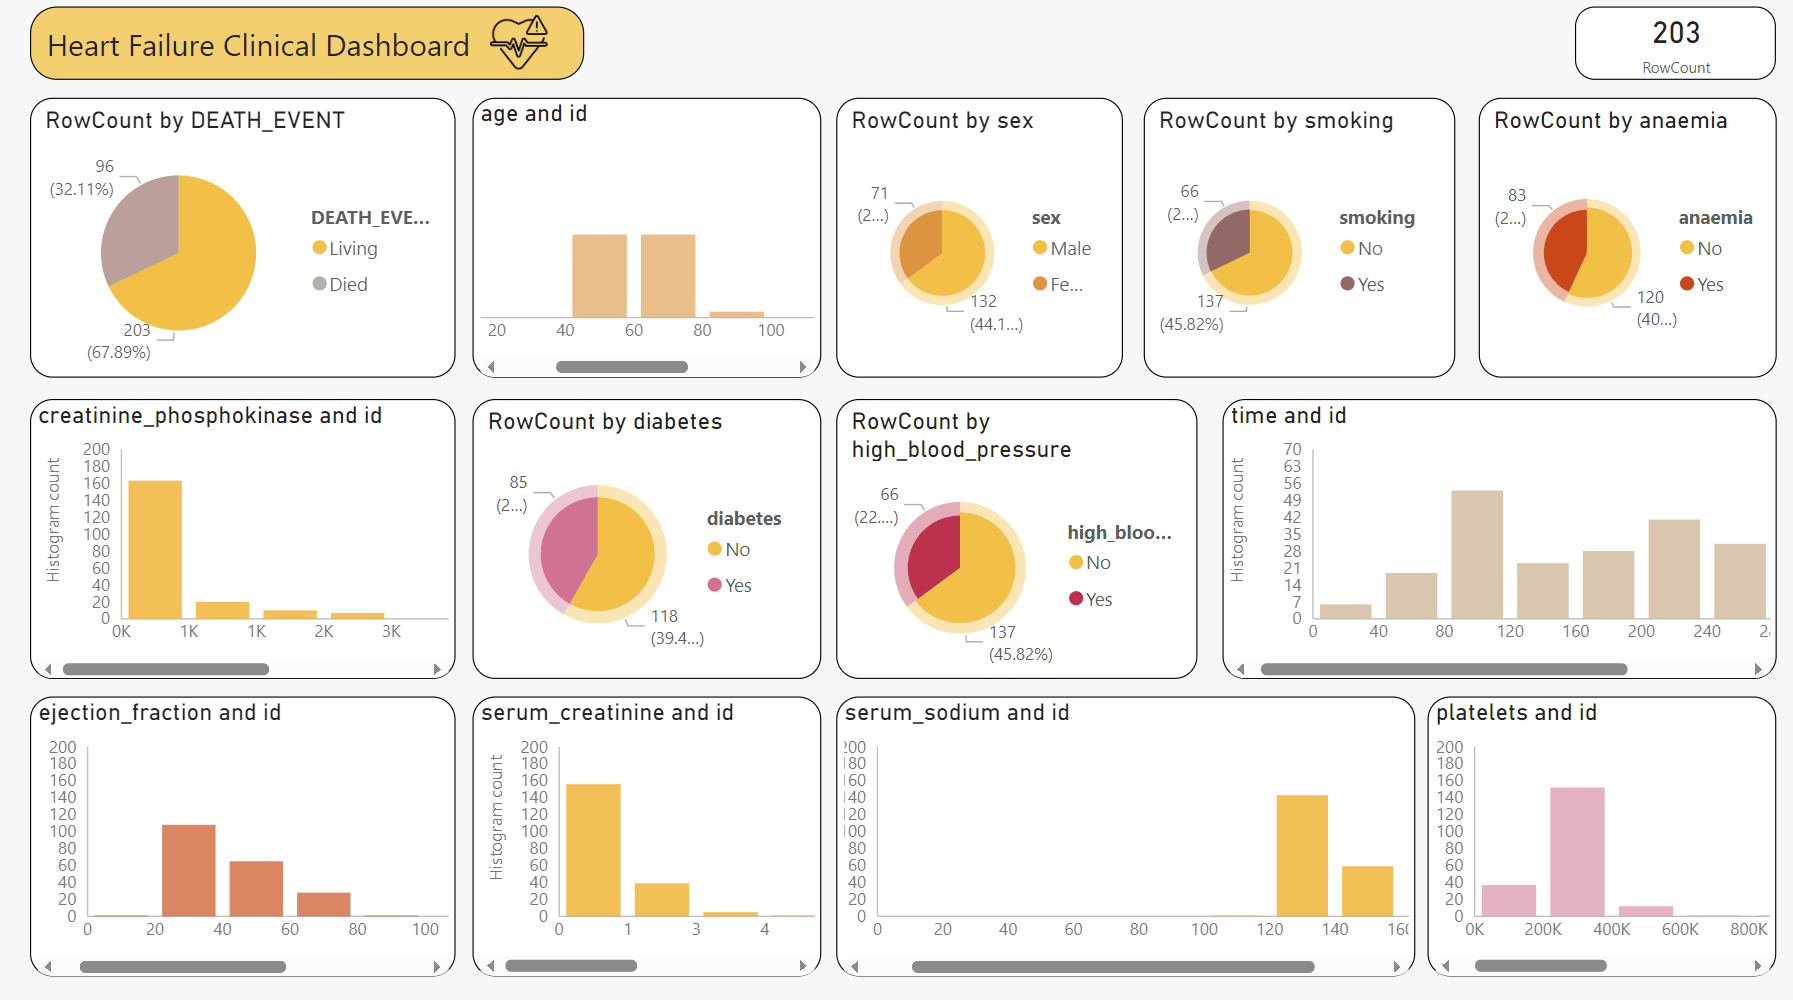

This screenshot's page, from the dashboard's own definition file:
{"tool":"powerbi","page":{"name":"Page 1","canvas":[1280,720],"ordinal":0},"visuals":[{"type":"histogramXY6E3D5691159E41859A007A262D4B0E9E","fields":{"xAxis":["heart_failure_clinical_records_powerbi.age"],"yAxis":["heart_failure_clinical_records_powerbi.id"]},"box":[338.4,73.5,247.2,198.5],"z":0},{"type":"pieChart","fields":{"Category":["heart_failure_clinical_records_powerbi.DEATH_EVENT"],"Y":["heart_failure_clinical_records_powerbi.RowCount"]},"box":[24.8,73.5,301.2,198.5],"z":1000},{"type":"pieChart","fields":{"Y":["heart_failure_clinical_records_powerbi.RowCount"],"Category":["heart_failure_clinical_records_powerbi.anaemia"]},"box":[1051.8,73.6,210.9,198.2],"z":2000},{"type":"textbox","box":[24.8,8.9,392.5,52.3],"z":3000},{"type":"image","box":[326,8.9,89.5,50.5],"z":4000},{"type":"card","fields":{"Values":["heart_failure_clinical_records_powerbi.RowCount"]},"box":[1119.8,8.9,142.6,52.3],"z":5000},{"type":"pieChart","fields":{"Y":["heart_failure_clinical_records_powerbi.RowCount"],"Category":["heart_failure_clinical_records_powerbi.diabetes"]},"box":[338.4,287,247.2,198.5],"z":6000},{"type":"pieChart","fields":{"Y":["heart_failure_clinical_records_powerbi.RowCount"],"Category":["heart_failure_clinical_records_powerbi.high_blood_pressure"]},"box":[596.2,287,256,198.5],"z":7000},{"type":"pieChart","fields":{"Y":["heart_failure_clinical_records_powerbi.RowCount"],"Category":["heart_failure_clinical_records_powerbi.sex"]},"box":[596.2,73.5,202.9,198.5],"z":8000},{"type":"pieChart","fields":{"Category":["heart_failure_clinical_records_powerbi.smoking"],"Y":["heart_failure_clinical_records_powerbi.RowCount"]},"box":[814.5,73.6,220.9,198.2],"z":9000},{"type":"histogramXY6E3D5691159E41859A007A262D4B0E9E","fields":{"xAxis":["heart_failure_clinical_records_powerbi.creatinine_phosphokinase"],"yAxis":["heart_failure_clinical_records_powerbi.id"]},"box":[24.8,287,301.2,198.5],"z":10000},{"type":"histogramXY6E3D5691159E41859A007A262D4B0E9E","fields":{"xAxis":["heart_failure_clinical_records_powerbi.time"],"yAxis":["heart_failure_clinical_records_powerbi.id"]},"box":[870,287,392.5,198.5],"z":11000},{"type":"histogramXY6E3D5691159E41859A007A262D4B0E9E","fields":{"xAxis":["heart_failure_clinical_records_powerbi.ejection_fraction"],"yAxis":["heart_failure_clinical_records_powerbi.id"]},"box":[24.8,497.9,301.2,198.5],"z":12000},{"type":"histogramXY6E3D5691159E41859A007A262D4B0E9E","fields":{"xAxis":["heart_failure_clinical_records_powerbi.platelets"],"yAxis":["heart_failure_clinical_records_powerbi.id"]},"box":[1015.3,497.9,247.2,198.5],"z":13000},{"type":"histogramXY6E3D5691159E41859A007A262D4B0E9E","fields":{"xAxis":["heart_failure_clinical_records_powerbi.serum_creatinine"],"yAxis":["heart_failure_clinical_records_powerbi.id"]},"box":[338.4,497.9,247.2,198.5],"z":14000},{"type":"histogramXY6E3D5691159E41859A007A262D4B0E9E","fields":{"xAxis":["heart_failure_clinical_records_powerbi.serum_sodium"],"yAxis":["heart_failure_clinical_records_powerbi.id"]},"box":[596.2,497.9,410.2,198.5],"z":15000}]}

Visuals, with their boxes in screenshot pixels (x1, y1, x2, y2), scaled from the page's 1280x720 canvas onto the 1793x1000 screenshot:
histogramXY6E3D5691159E41859A007A262D4B0E9E - heart_failure_clinical_records_powerbi.age x heart_failure_clinical_records_powerbi.id: bbox=[474, 102, 820, 378]
pieChart - heart_failure_clinical_records_powerbi.DEATH_EVENT x heart_failure_clinical_records_powerbi.RowCount: bbox=[35, 102, 457, 378]
pieChart - heart_failure_clinical_records_powerbi.RowCount x heart_failure_clinical_records_powerbi.anaemia: bbox=[1473, 102, 1769, 377]
textbox: bbox=[35, 12, 585, 85]
image: bbox=[457, 12, 582, 82]
card - heart_failure_clinical_records_powerbi.RowCount: bbox=[1569, 12, 1768, 85]
pieChart - heart_failure_clinical_records_powerbi.RowCount x heart_failure_clinical_records_powerbi.diabetes: bbox=[474, 399, 820, 674]
pieChart - heart_failure_clinical_records_powerbi.RowCount x heart_failure_clinical_records_powerbi.high_blood_pressure: bbox=[835, 399, 1194, 674]
pieChart - heart_failure_clinical_records_powerbi.RowCount x heart_failure_clinical_records_powerbi.sex: bbox=[835, 102, 1119, 378]
pieChart - heart_failure_clinical_records_powerbi.smoking x heart_failure_clinical_records_powerbi.RowCount: bbox=[1141, 102, 1450, 377]
histogramXY6E3D5691159E41859A007A262D4B0E9E - heart_failure_clinical_records_powerbi.creatinine_phosphokinase x heart_failure_clinical_records_powerbi.id: bbox=[35, 399, 457, 674]
histogramXY6E3D5691159E41859A007A262D4B0E9E - heart_failure_clinical_records_powerbi.time x heart_failure_clinical_records_powerbi.id: bbox=[1219, 399, 1768, 674]
histogramXY6E3D5691159E41859A007A262D4B0E9E - heart_failure_clinical_records_powerbi.ejection_fraction x heart_failure_clinical_records_powerbi.id: bbox=[35, 692, 457, 967]
histogramXY6E3D5691159E41859A007A262D4B0E9E - heart_failure_clinical_records_powerbi.platelets x heart_failure_clinical_records_powerbi.id: bbox=[1422, 692, 1768, 967]
histogramXY6E3D5691159E41859A007A262D4B0E9E - heart_failure_clinical_records_powerbi.serum_creatinine x heart_failure_clinical_records_powerbi.id: bbox=[474, 692, 820, 967]
histogramXY6E3D5691159E41859A007A262D4B0E9E - heart_failure_clinical_records_powerbi.serum_sodium x heart_failure_clinical_records_powerbi.id: bbox=[835, 692, 1410, 967]
